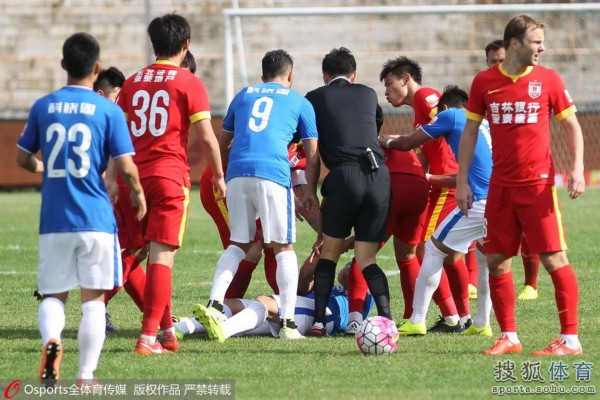10+: (9, 9, 588, 396)
down: (157, 247, 384, 349)
